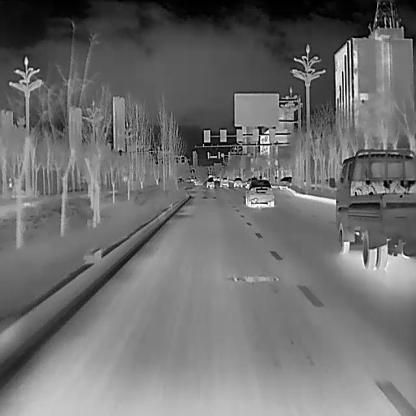car: (328, 146, 414, 270), (244, 179, 274, 206), (277, 176, 292, 189), (218, 175, 229, 187), (233, 176, 243, 187), (206, 176, 214, 187)
